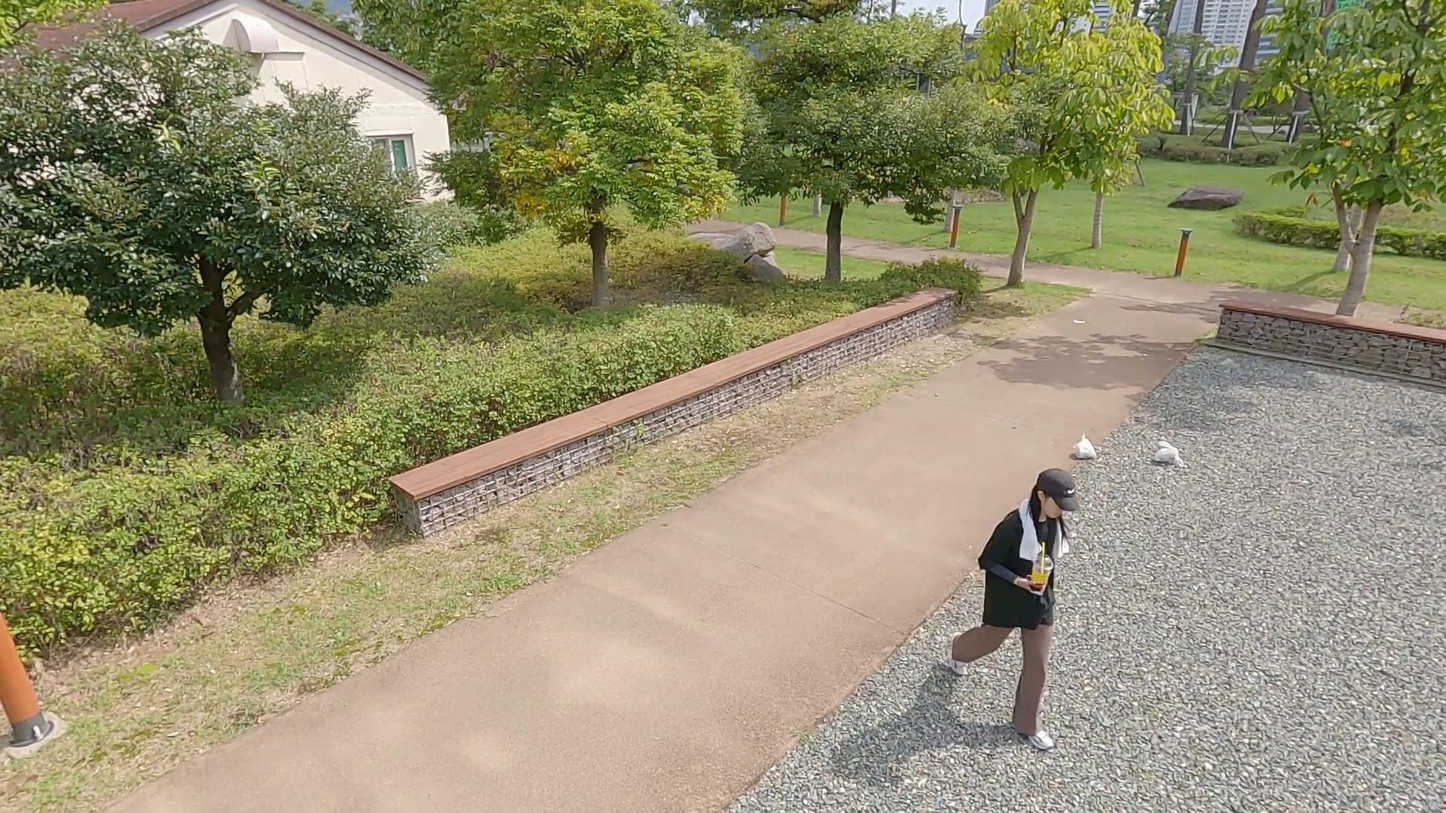person: (938, 459, 1082, 757)
trash: (1028, 541, 1054, 598), (1148, 436, 1186, 469), (1068, 429, 1100, 461)
